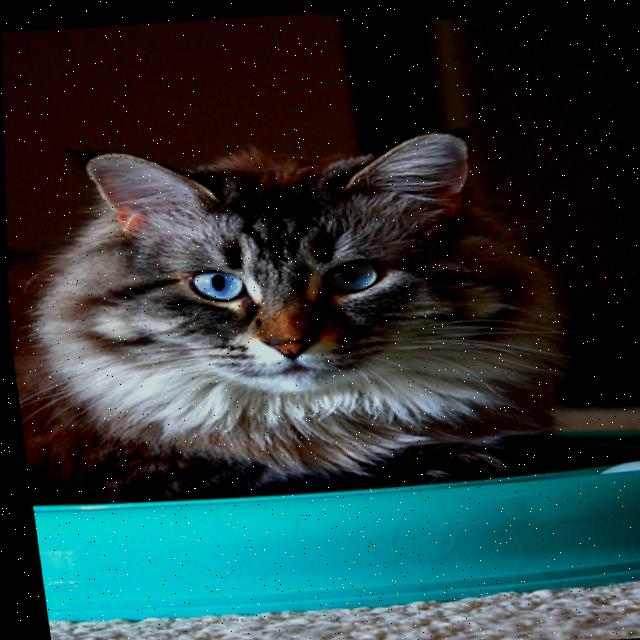Maine Coon: (2, 94, 594, 529)
